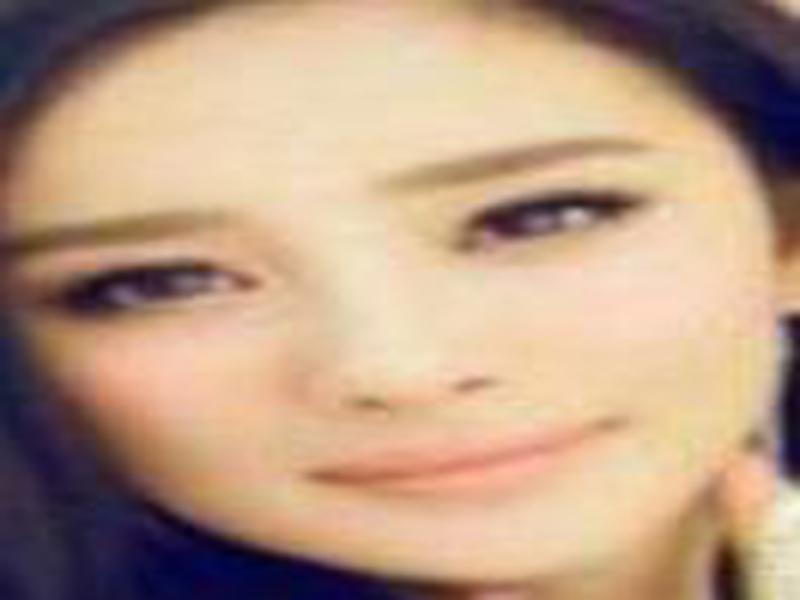without_mask: (4, 70, 773, 576)
